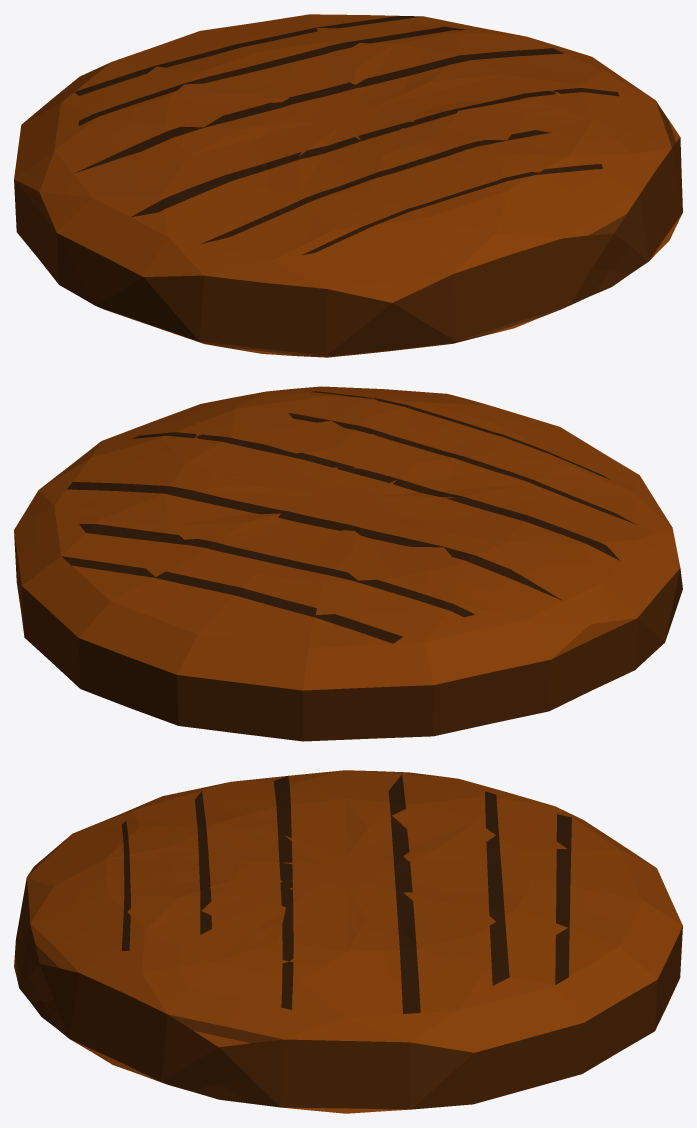
File: patty.glb
The picture shows the model from 3 angles, top to bottom: view 1: azimuth 30°, elevation 25°; view 2: azimuth 150°, elevation 25°; view 3: azimuth 270°, elevation 25°; orthographic projection.
Visible parts, largest first — view 1: Cylinder.002; view 2: Cylinder.002; view 3: Cylinder.002.
Boxes of the visible parts, bbox=[...] form: Cylinder.002: bbox=[14, 14, 682, 357]; Cylinder.002: bbox=[14, 386, 682, 741]; Cylinder.002: bbox=[14, 770, 682, 1113].
Bounding box in the file's own units: 2 × 0.4 × 2.
